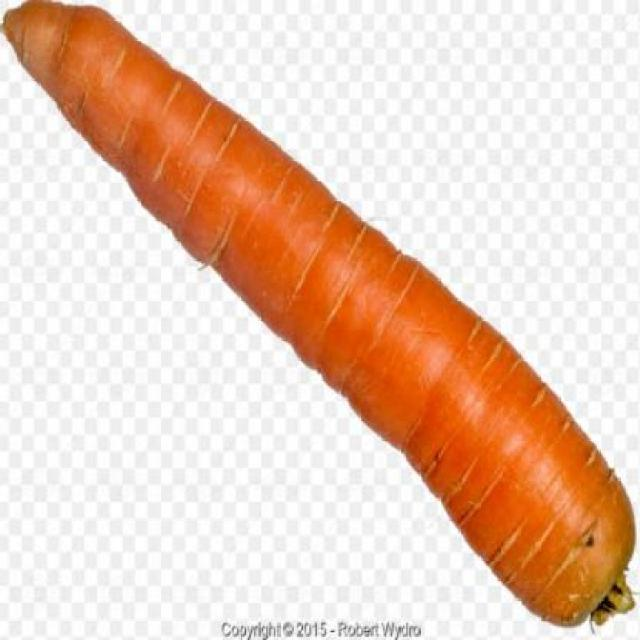carrot: (2, 1, 640, 630)
